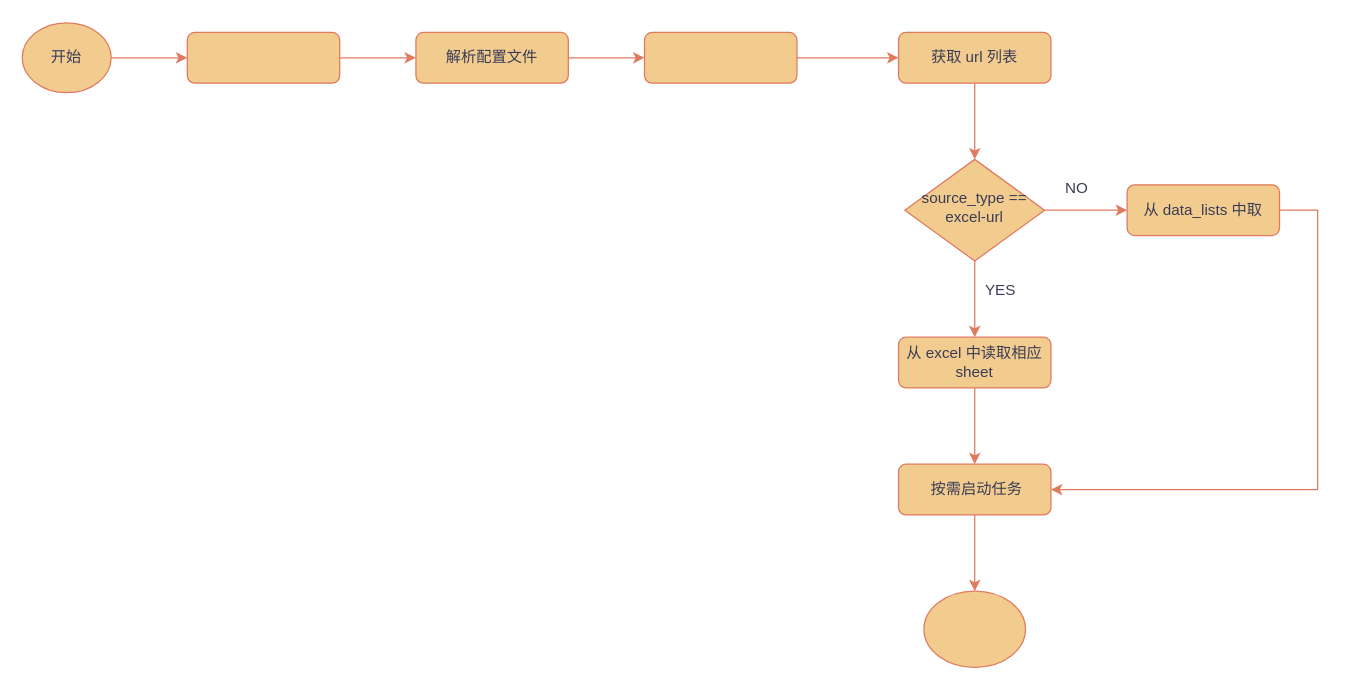
Some shapes in this 1350 by 690 pixel diagram are drawn without their labels. Here are the shapes that lost their labels. From the top down, the box of each, then its label:
(186, 31, 340, 83): 执行任务启动脚本
(643, 31, 797, 83): 检查配置参数是否合法
(923, 590, 1026, 667): 结束
